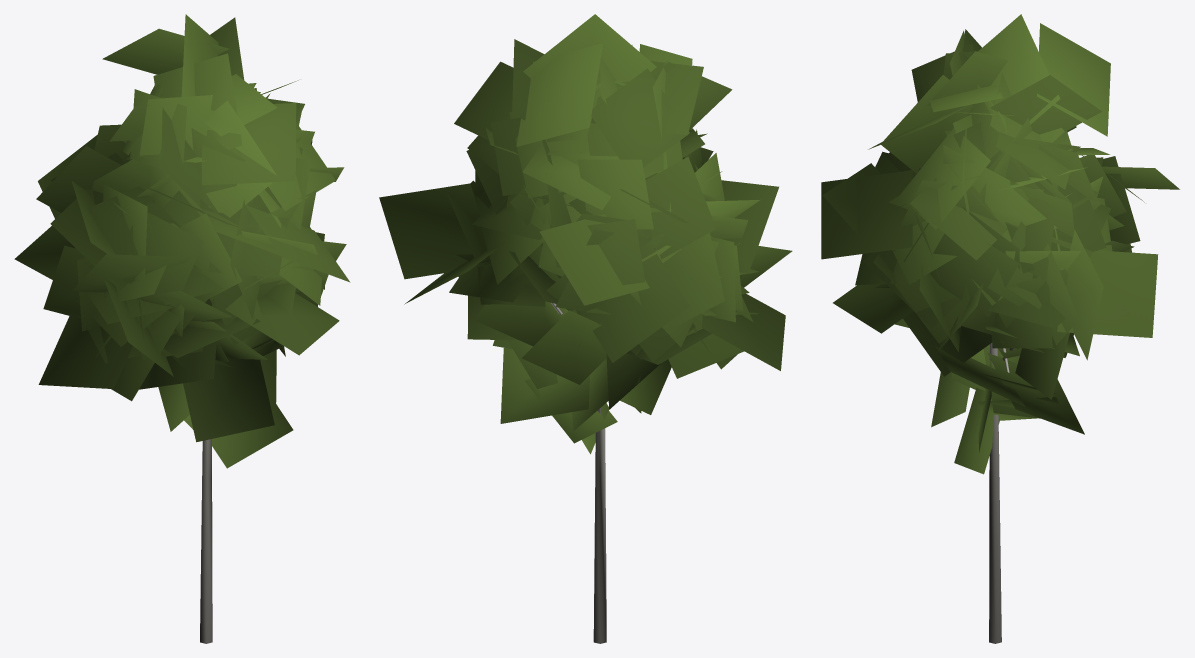
File: SM_Brzoza_2.glb
The picture shows the model from 3 angles, left to right: view 1: azimuth 30°, elevation 25°; view 2: azimuth 150°, elevation 25°; view 3: azimuth 270°, elevation 25°; orthographic projection. The views are drawn at different scales.
Parts seen in each view (by area): view 1: SM_Brzoza_2; view 2: SM_Brzoza_2; view 3: SM_Brzoza_2.
Part boxes in pixels (box(x1,y1,x2,y2)): SM_Brzoza_2: box(14, 14, 350, 643); SM_Brzoza_2: box(379, 14, 792, 643); SM_Brzoza_2: box(821, 14, 1179, 643).
Bounding box in the file's own units: 8.92 × 15.89 × 8.3.
